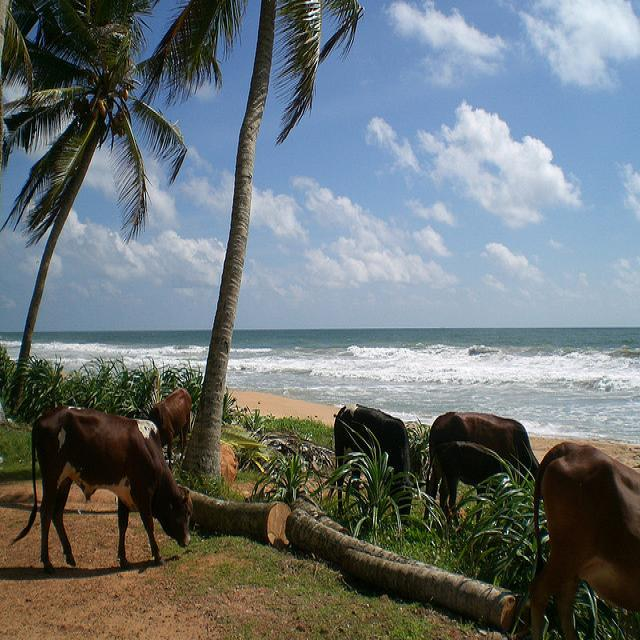cow: (9, 400, 193, 568), (528, 443, 638, 631), (420, 403, 543, 524), (332, 401, 415, 523), (143, 384, 191, 455)
